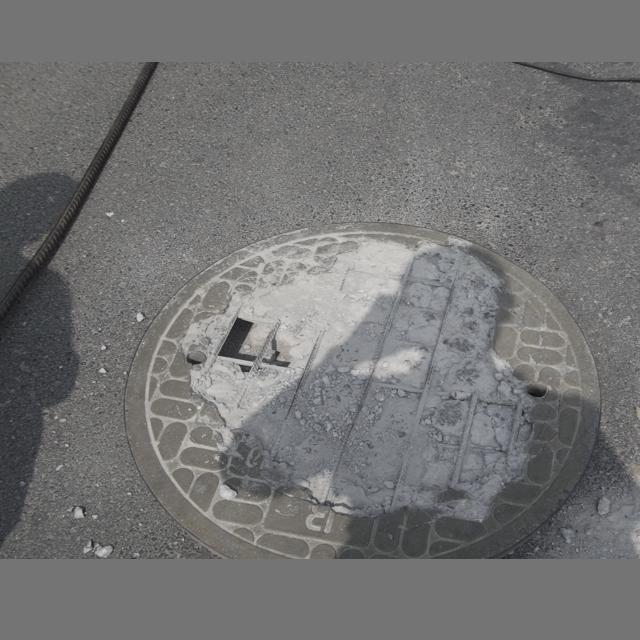broke: (122, 218, 605, 559)
